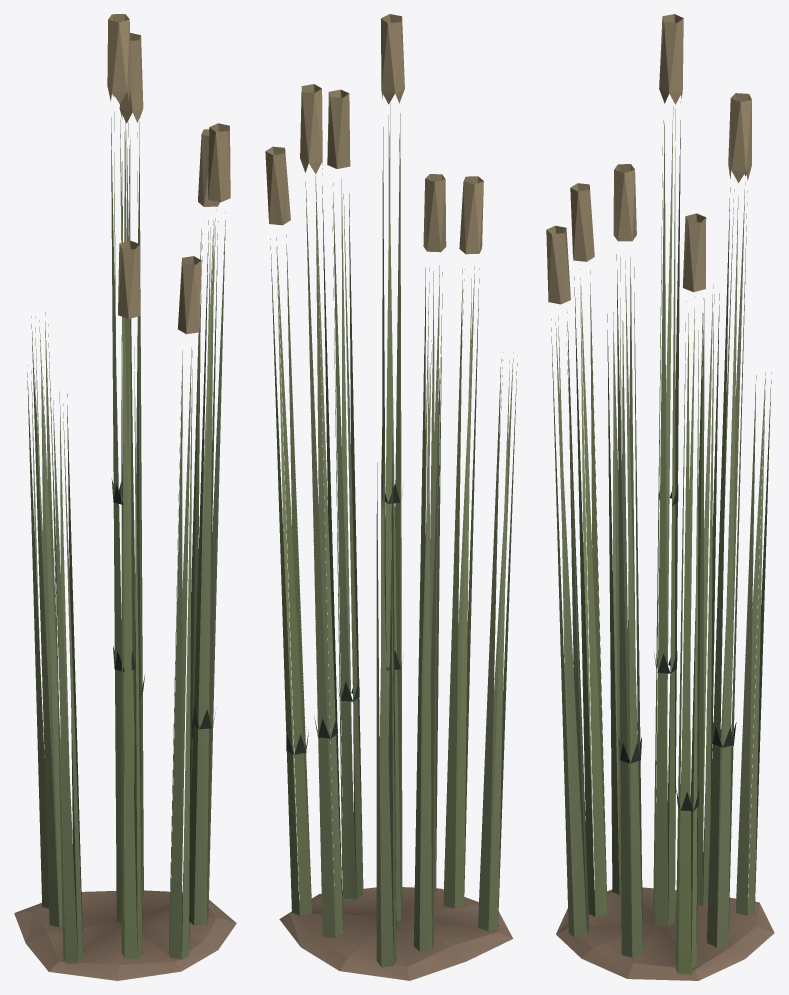
File: horsetail.lod.glb
3 renders of one model, left to right at view 1: azimuth 30°, elevation 25°; view 2: azimuth 150°, elevation 25°; view 3: azimuth 270°, elevation 25°, orthographic.
Visible parts, largest first — view 1: horsetail; view 2: horsetail; view 3: horsetail.
Part boxes in pixels (x1,y1,x2,y2): horsetail: (14,14,236,980); horsetail: (265,14,517,980); horsetail: (546,14,774,980).
Bounding box in the file's own units: 1.17 × 4.93 × 1.12.
